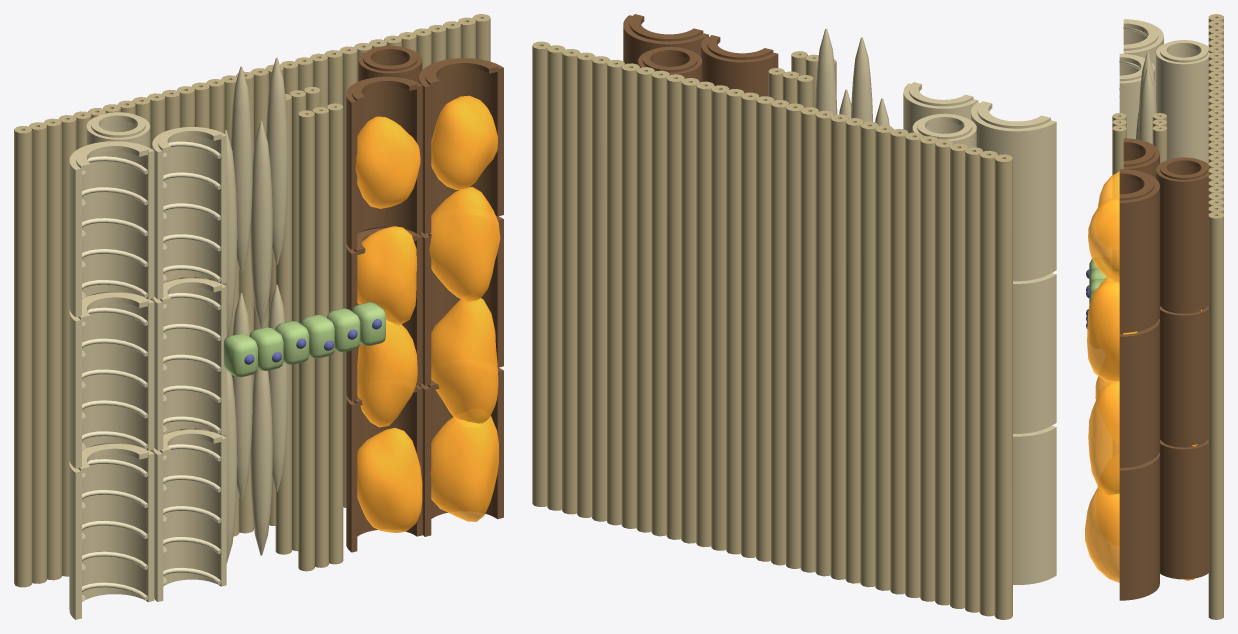
File: 11_xylem.glb
The picture shows the model from 3 angles, left to right: view 1: azimuth 30°, elevation 25°; view 2: azimuth 150°, elevation 25°; view 3: azimuth 270°, elevation 25°; orthographic projection. The views are drawn at different scales.
Visible parts, largest first — view 1: Xylem_Fibres, Vessels_Young, Resin_Gum_In_Old_Xylem, Vessels_Old, Tracheids, Vessel_Wall_Thickenings, Xylem_Parenchyma, Vessel_End_Walls, Vessel_End_Walls_Old; view 2: Xylem_Fibres, Vessels_Young, Vessels_Old, Tracheids, Vessel_End_Walls, Vessel_End_Walls_Old; view 3: Vessels_Old, Resin_Gum_In_Old_Xylem, Xylem_Fibres, Vessels_Young, Vessel_End_Walls_Old, Vessel_End_Walls, Tracheids, Xylem_Parenchyma.
Boxes of the visible parts, left/top/right/bottom form: Xylem_Fibres: left=14, top=14, right=490, bottom=587; Vessels_Young: left=69, top=116, right=226, bottom=619; Resin_Gum_In_Old_Xylem: left=355, top=95, right=500, bottom=532; Vessels_Old: left=346, top=50, right=503, bottom=552; Tracheids: left=215, top=57, right=288, bottom=563; Vessel_Wall_Thickenings: left=82, top=141, right=221, bottom=600; Xylem_Parenchyma: left=223, top=302, right=385, bottom=377; Vessel_End_Walls: left=76, top=112, right=221, bottom=473; Vessel_End_Walls_Old: left=352, top=46, right=498, bottom=406; Xylem_Fibres: left=532, top=41, right=1012, bottom=619; Vessels_Young: left=903, top=83, right=1056, bottom=584; Vessels_Old: left=623, top=15, right=778, bottom=96; Tracheids: left=815, top=28, right=889, bottom=125; Vessel_End_Walls: left=909, top=82, right=1050, bottom=433; Vessel_End_Walls_Old: left=629, top=14, right=773, bottom=72; Vessels_Old: left=1119, top=139, right=1210, bottom=600; Resin_Gum_In_Old_Xylem: left=1085, top=171, right=1201, bottom=582; Xylem_Fibres: left=1112, top=14, right=1223, bottom=619; Vessels_Young: left=1119, top=19, right=1210, bottom=163; Vessel_End_Walls_Old: left=1119, top=138, right=1208, bottom=468; Vessel_End_Walls: left=1119, top=19, right=1208, bottom=81; Tracheids: left=1136, top=52, right=1156, bottom=144; Xylem_Parenchyma: left=1089, top=258, right=1106, bottom=304.
Size of the model in its own units: 2.4 by 2.49 by 0.69.
